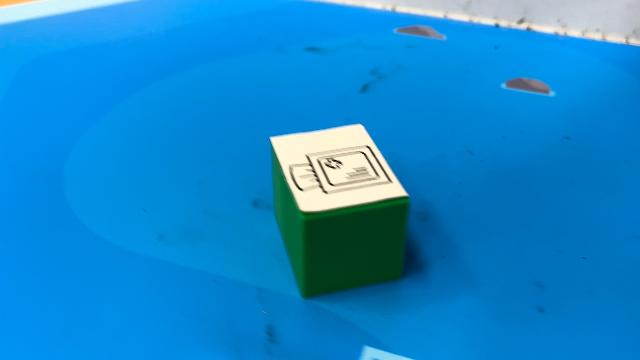napkin: (268, 122, 414, 302)
